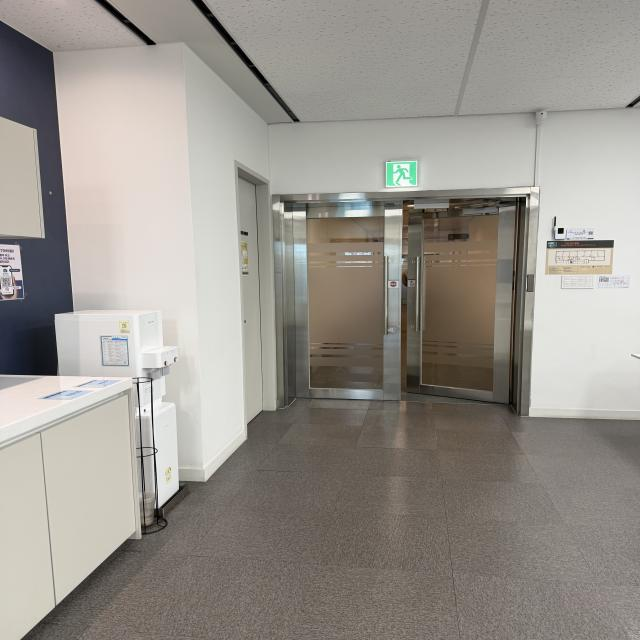rear_door: (278, 198, 517, 403)
